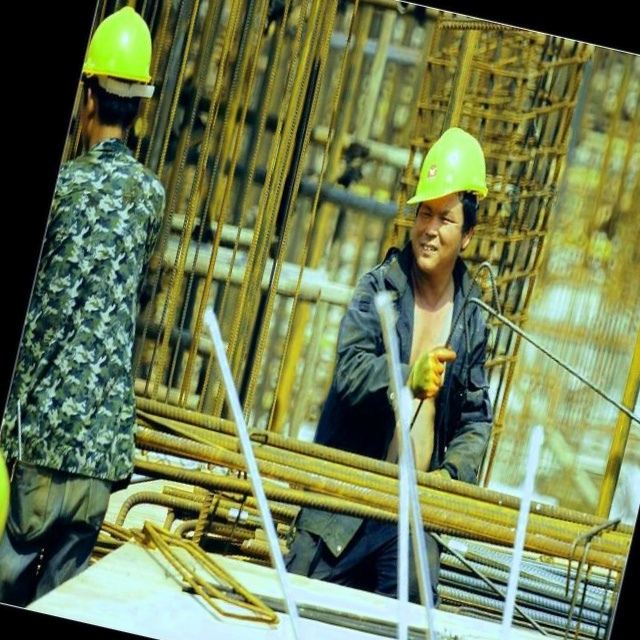Con_Casco: (399, 123, 497, 274), (72, 3, 163, 143)
Sin_Chaleco: (0, 150, 175, 473)
